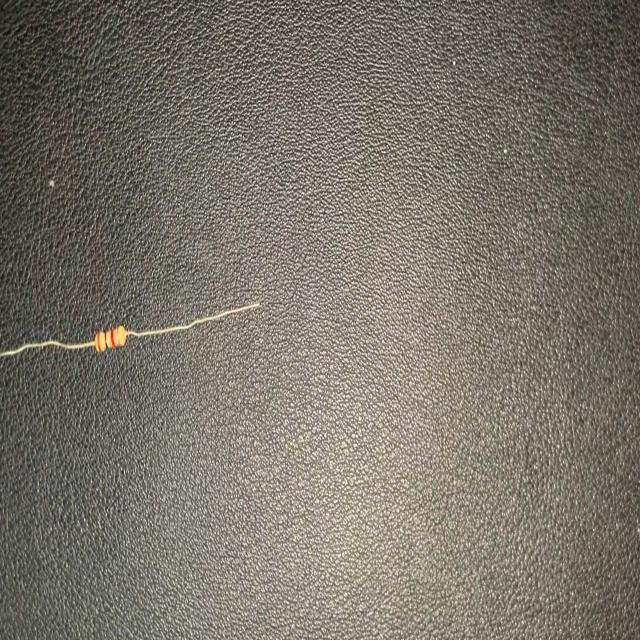resistor: (2, 301, 261, 359)
